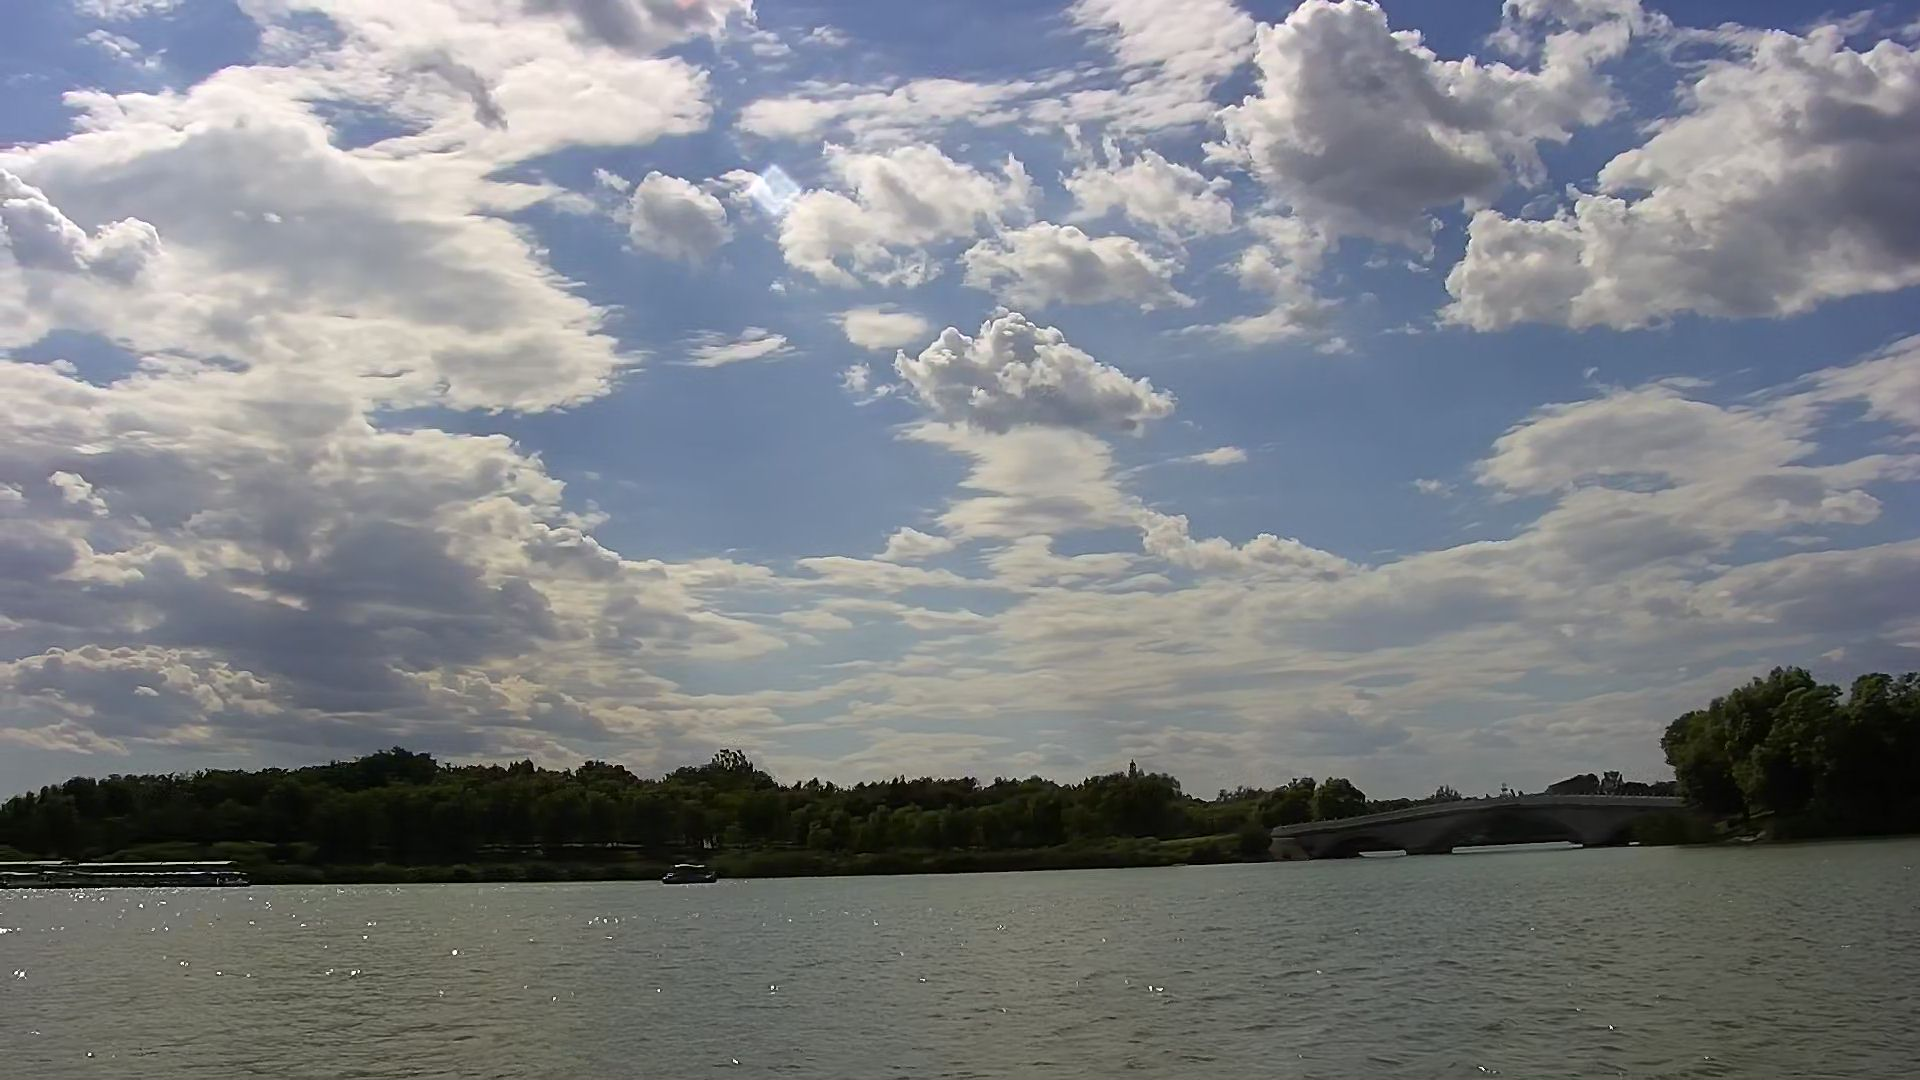boat: (661, 858, 723, 891)
bridge: (1269, 789, 1696, 860)
harbor: (1, 856, 247, 895)
